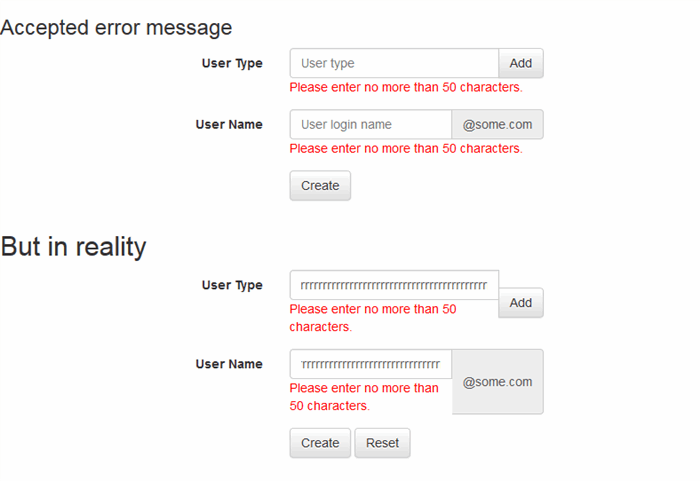error_message: (289, 302, 460, 333), (290, 382, 442, 411), (290, 141, 524, 155), (287, 82, 524, 94)
